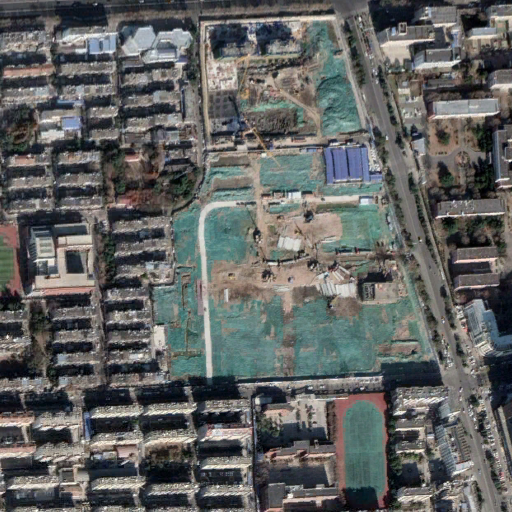cw: (148, 147, 433, 384), (232, 20, 364, 138)
